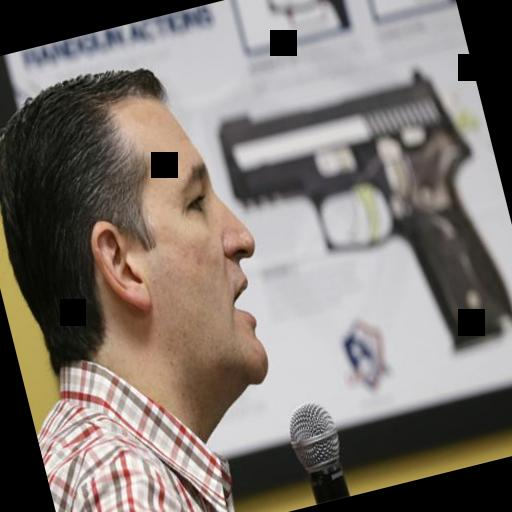Handgun: (214, 62, 512, 389)
